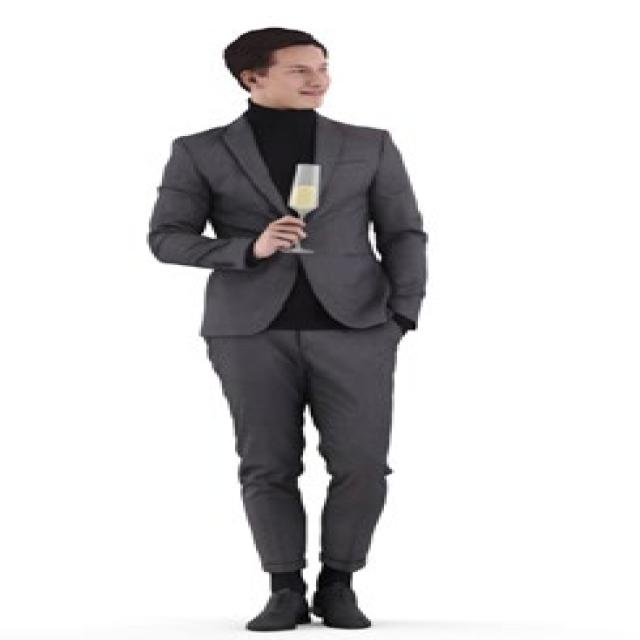standing: (138, 26, 431, 626)
